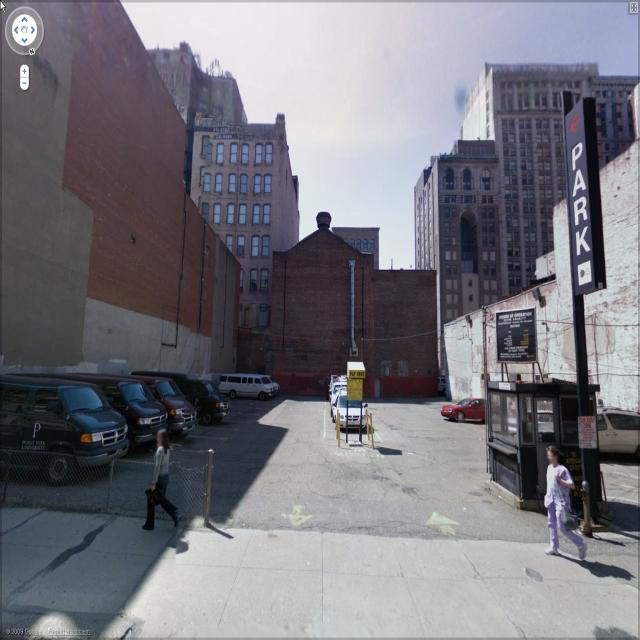b_1: (1, 9, 232, 384), (454, 242, 630, 421), (486, 50, 594, 294), (280, 245, 447, 394), (186, 117, 302, 248), (414, 162, 503, 324), (121, 47, 249, 127), (324, 220, 386, 268)
